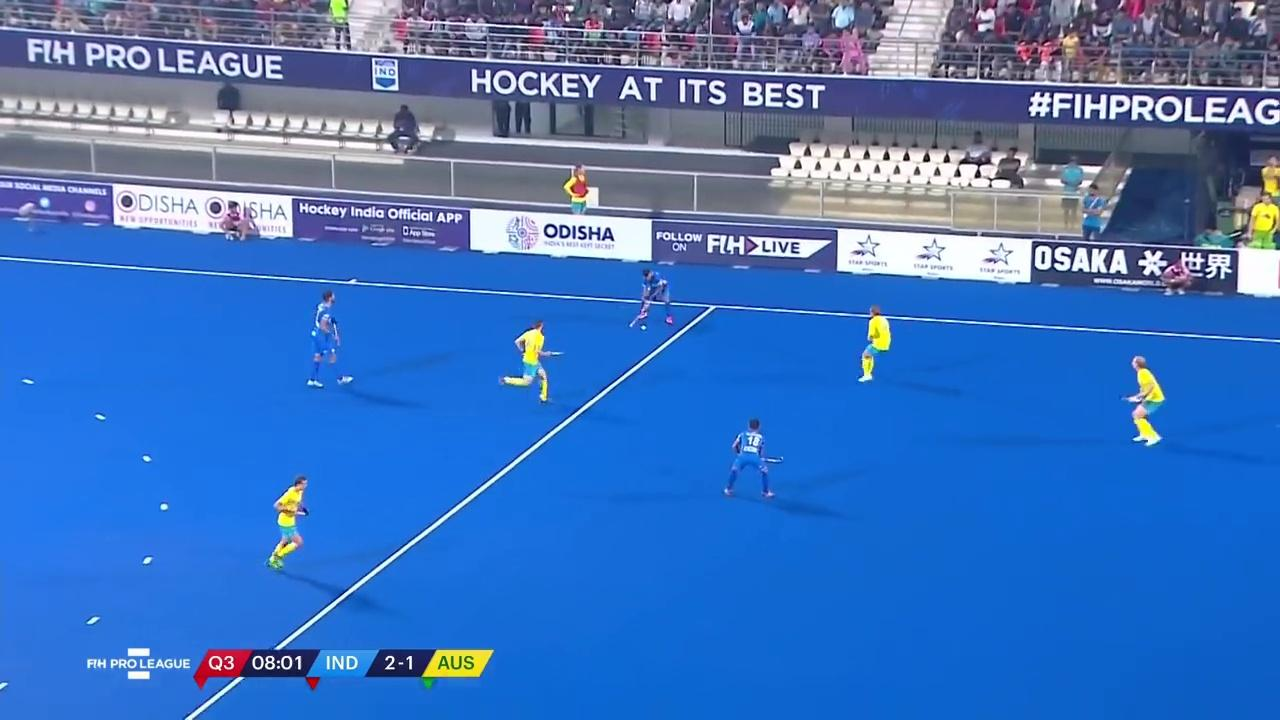ball: (636, 320, 650, 333)
